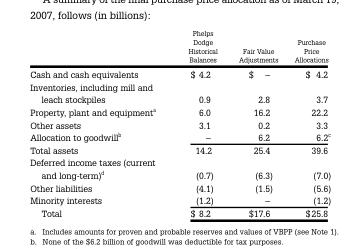table: (29, 28, 330, 217)
table column: (29, 28, 171, 217), (227, 28, 285, 217), (171, 28, 227, 217), (285, 28, 330, 217)
table column header: (29, 28, 330, 65)
table row: (29, 28, 330, 65), (29, 155, 330, 181), (29, 80, 330, 104), (29, 65, 330, 80), (29, 104, 330, 117), (29, 117, 330, 130), (29, 130, 330, 143), (29, 193, 330, 206), (29, 143, 330, 155), (29, 181, 330, 193), (29, 206, 330, 217)
